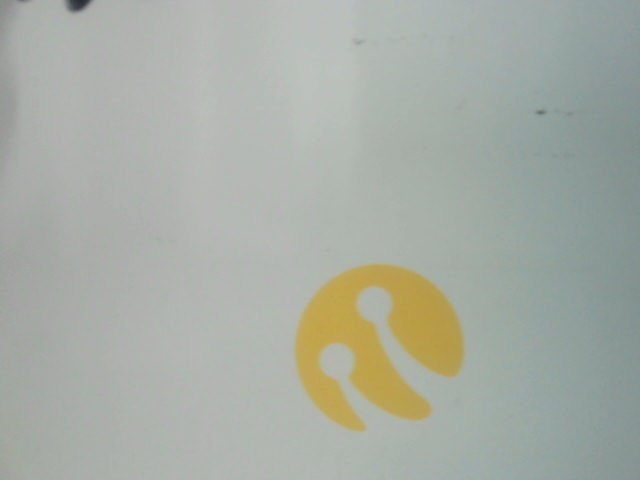AV_H3600Yellow: (283, 255, 476, 432)
